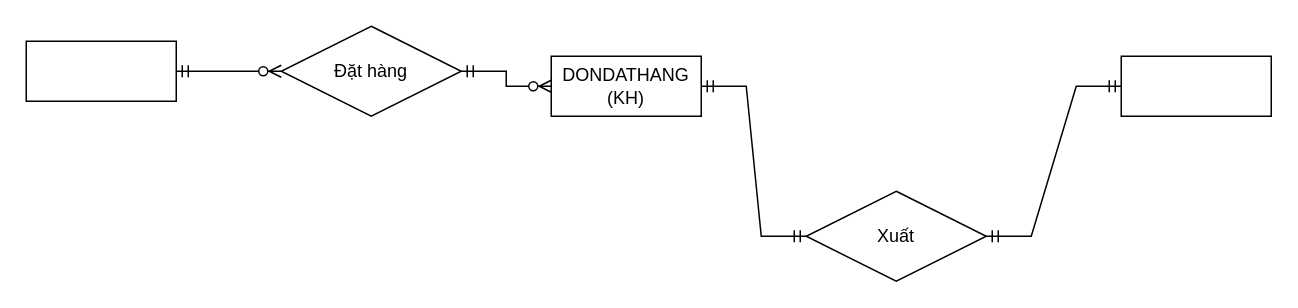
This 1298x308 diagram has some shape labels left out. The centre of each missing label's shape, as x and y in pixels:
"HOADON" belongs at point 1195,85.
"KHACHHANG" belongs at point 100,70.
